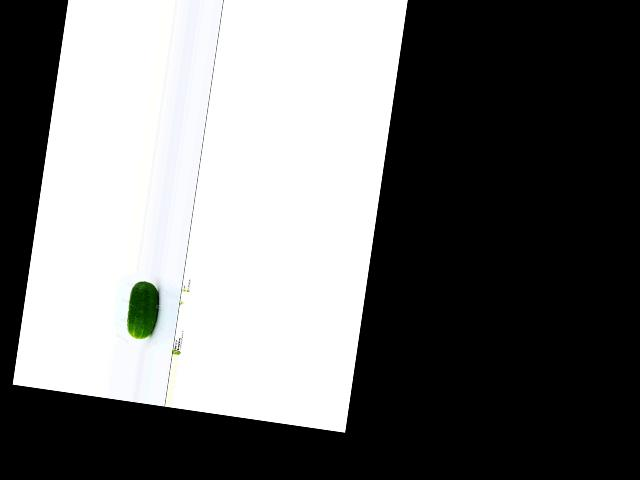cucumber: (125, 279, 161, 340)
